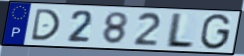2: (132, 11, 164, 47), (65, 9, 94, 44)
8: (102, 11, 130, 45)
D: (29, 8, 62, 42)
G: (198, 13, 233, 52)
L: (163, 12, 196, 50)
